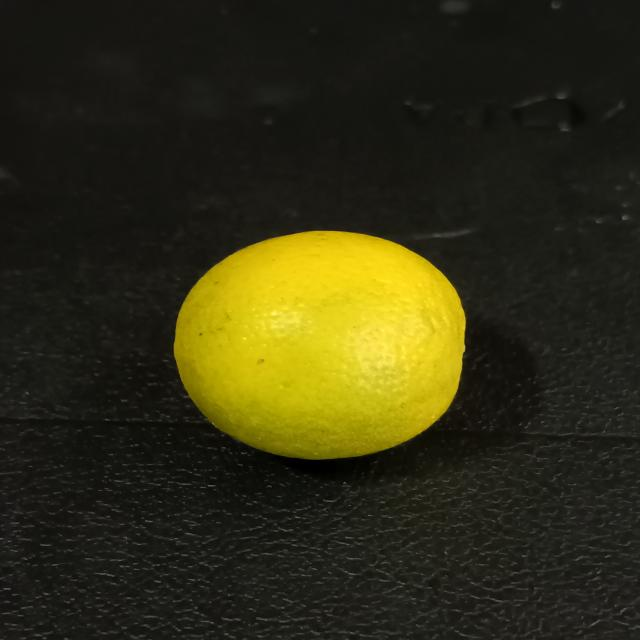greening: (171, 231, 468, 466)
